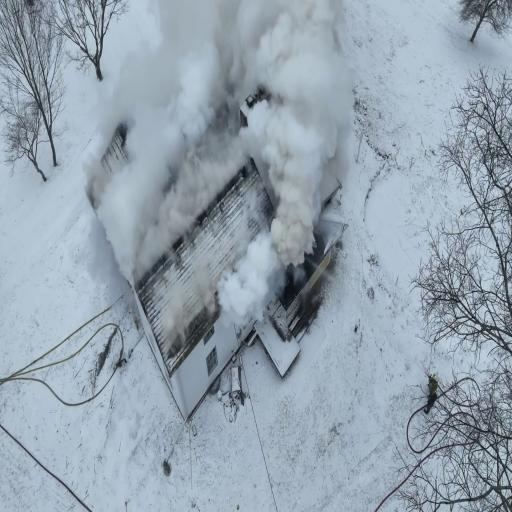smoke: (252, 20, 322, 260)
